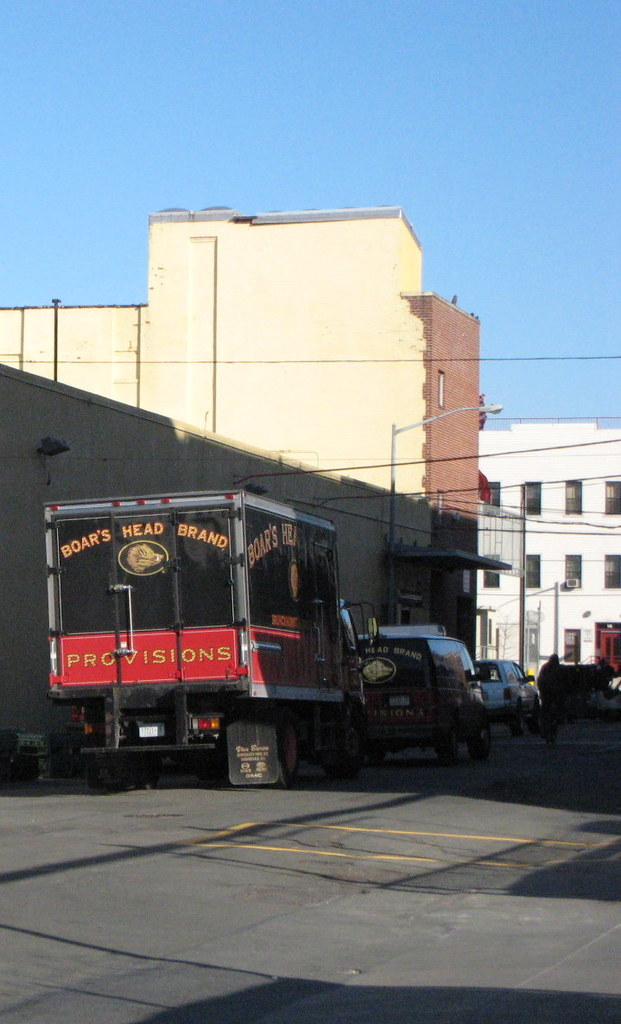Car: (355, 624, 501, 773), (481, 653, 549, 724)
